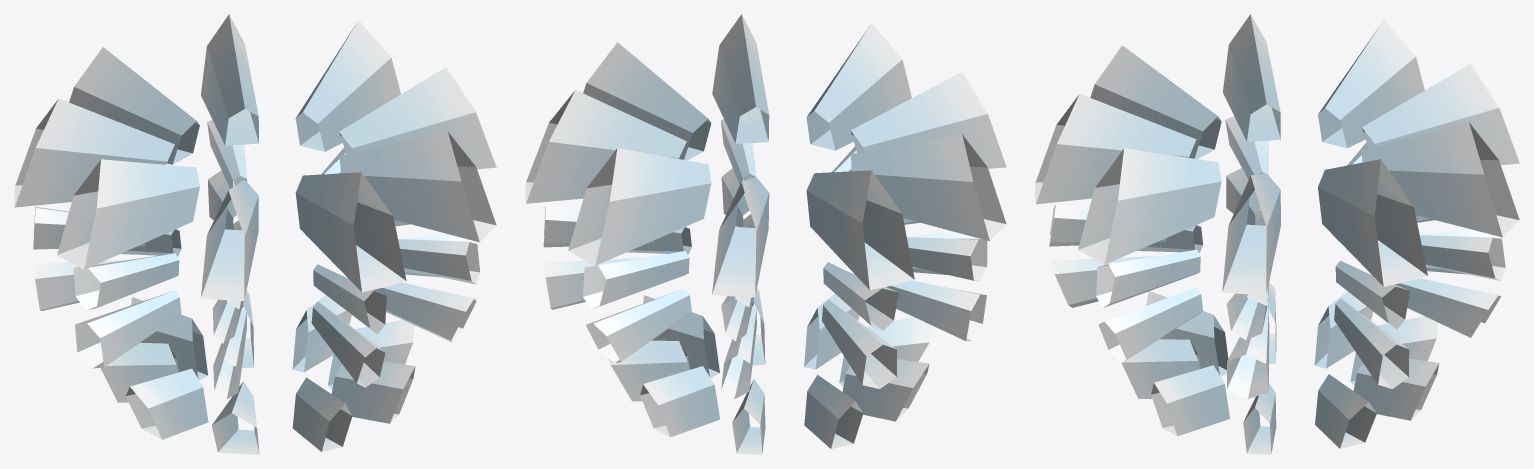
The model's file is Kingpin_Tower_shine_Fx.fbx.
3 views of the same model, side by side, from view 1: azimuth 30°, elevation 25°; view 2: azimuth 150°, elevation 25°; view 3: azimuth 270°, elevation 25° (orthographic).
Parts seen in each view (by area): view 1: Kingpin_Tower_shine_Fx; view 2: Kingpin_Tower_shine_Fx; view 3: Kingpin_Tower_shine_Fx.
Part boxes in pixels (bbox=[...]): Kingpin_Tower_shine_Fx: bbox=[14, 14, 496, 454]; Kingpin_Tower_shine_Fx: bbox=[525, 14, 1006, 454]; Kingpin_Tower_shine_Fx: bbox=[1035, 14, 1519, 454].
Size of the model in its own units: 97.77 by 67.86 by 96.64.
Materials: 1 (1 with a texture image).
